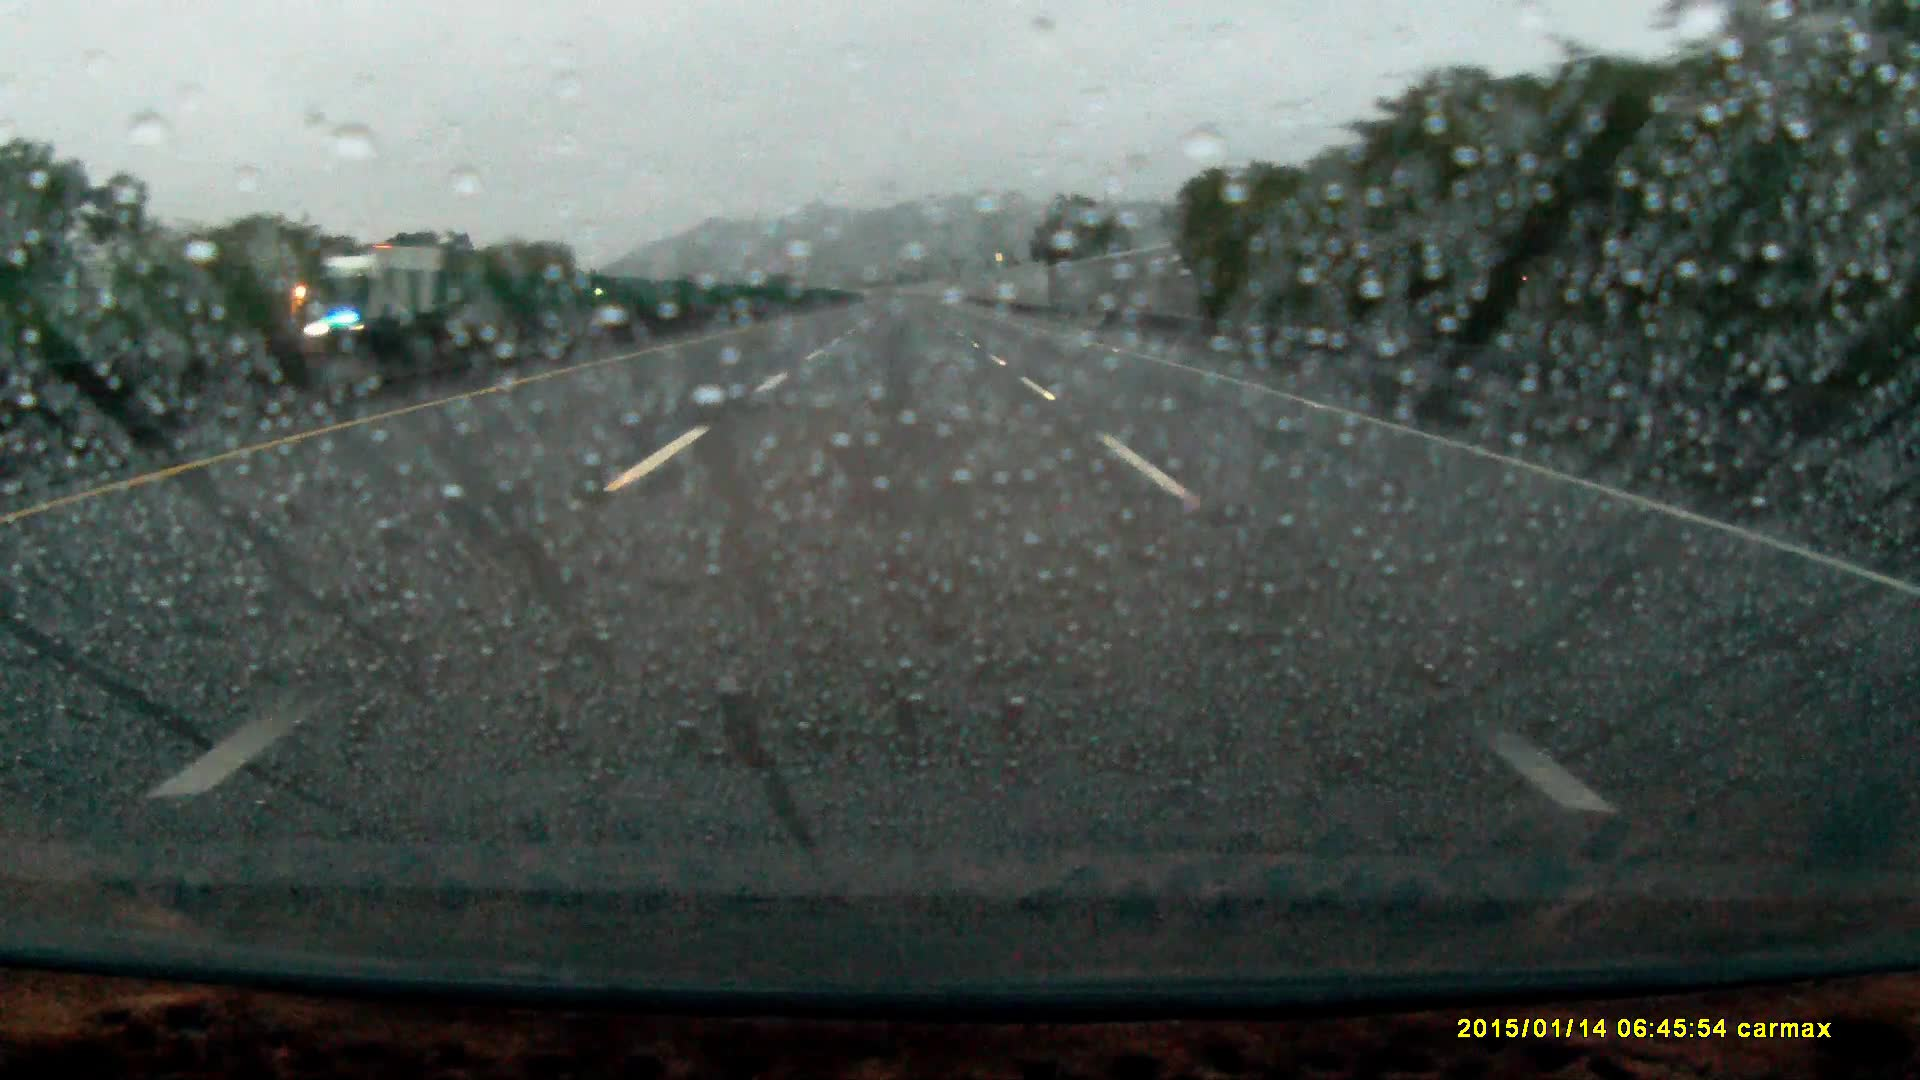vehicle: (295, 249, 454, 352)
